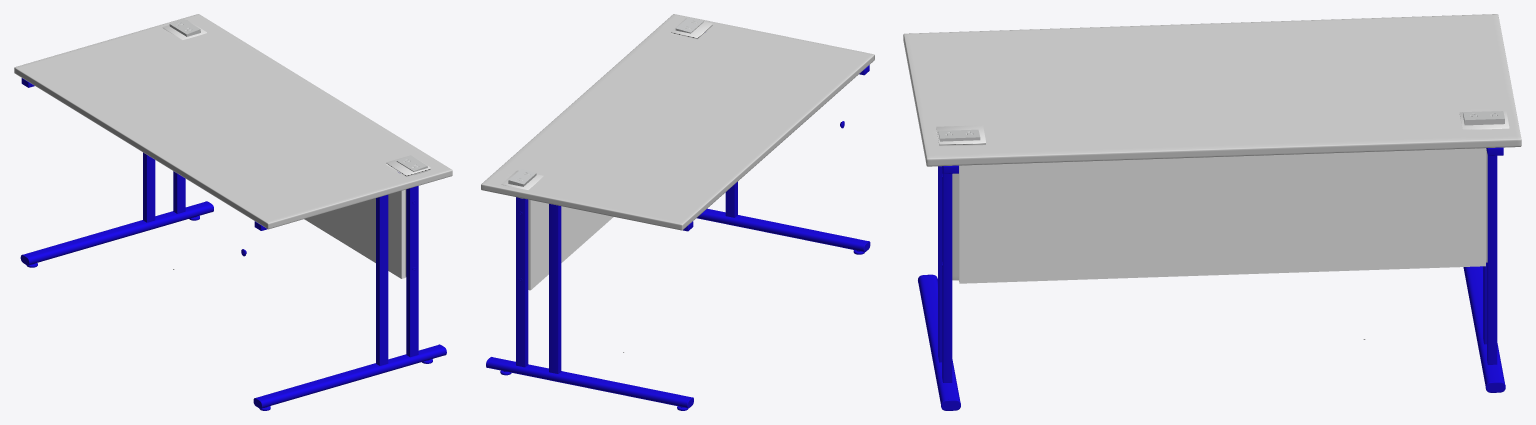
3 renders of one model, left to right at view 1: azimuth 30°, elevation 25°; view 2: azimuth 150°, elevation 25°; view 3: azimuth 270°, elevation 25°, orthographic. The views are drawn at different scales.
Parts seen in each view (by area): view 1: Box036.001, Box028.001, Cube; view 2: Box036.001, Box028.001, Cube; view 3: Box036.001, Cube, Box028.001, Cube.001, SmartPlugDue_final:plug_SmartPlugCompact_final:whitePlastic.
Boxes of the visible parts, x1,y1,x2,y2 form: Box036.001: [14, 14, 452, 276]; Box028.001: [20, 78, 446, 410]; Cube: [304, 189, 406, 278]; Box036.001: [481, 14, 874, 230]; Box028.001: [486, 65, 870, 410]; Cube: [528, 199, 613, 290]; Box036.001: [903, 14, 1521, 280]; Cube: [959, 148, 1485, 283]; Box028.001: [918, 147, 1505, 410]; Cube.001: [936, 125, 985, 146]; SmartPlugDue_final:plug_SmartPlugCompact_final:whitePlastic: [1463, 111, 1504, 125].
Size of the model in its own units: 0.352 by 0.299 by 0.6332.
